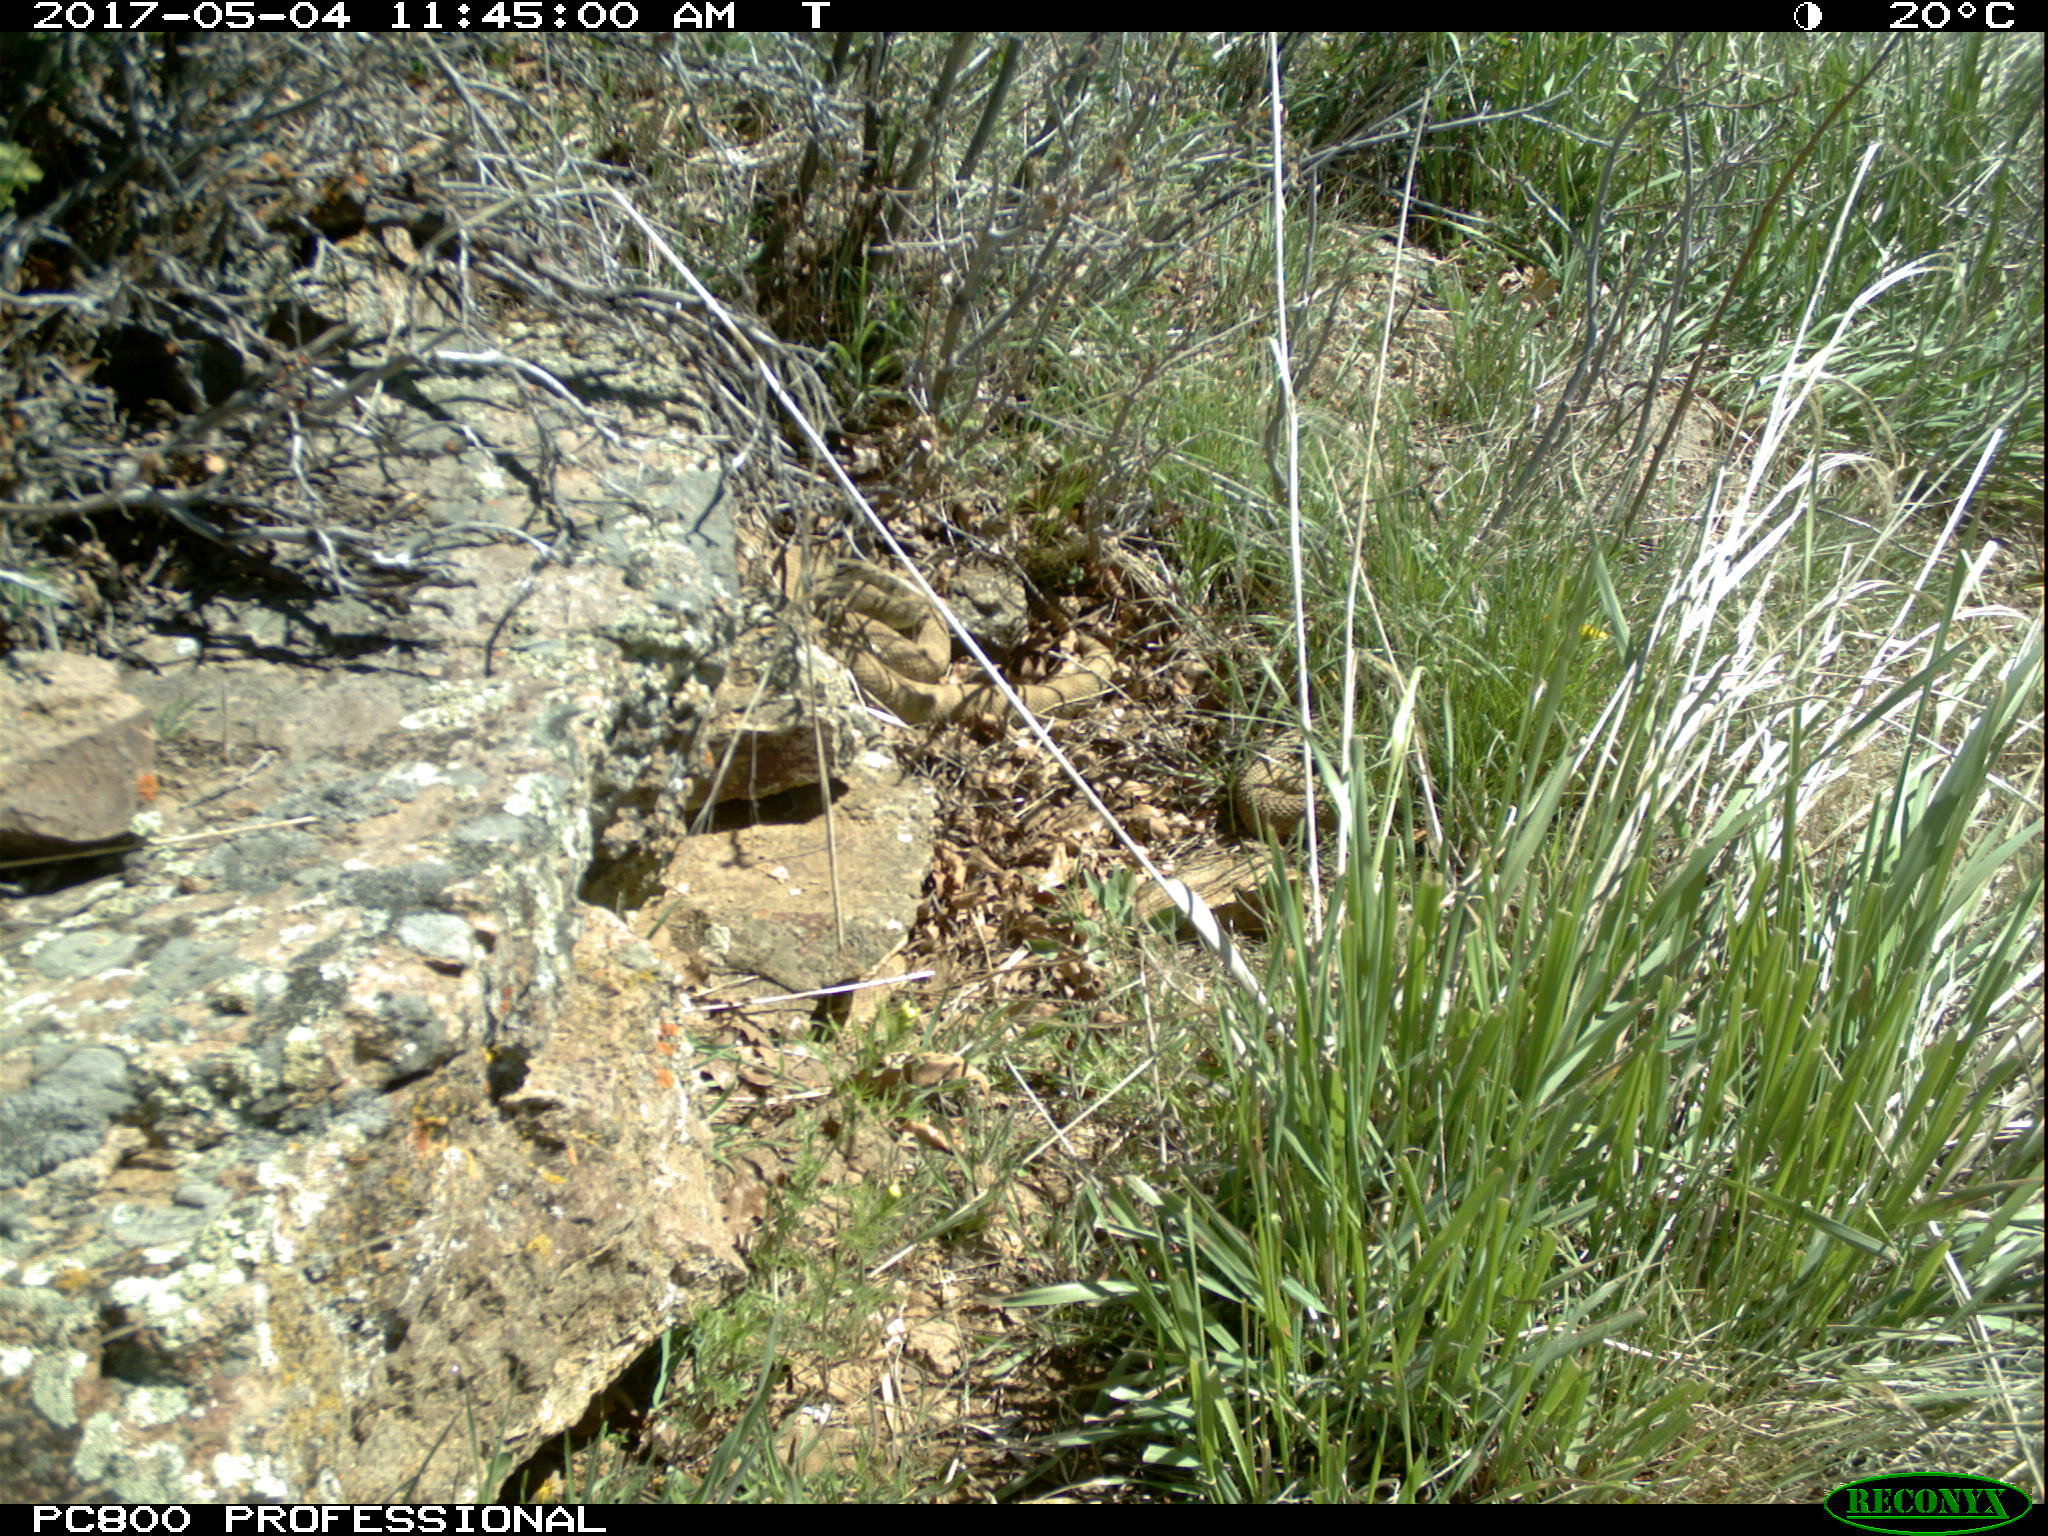snake: (814, 565, 1132, 716), (1230, 728, 1356, 852)
